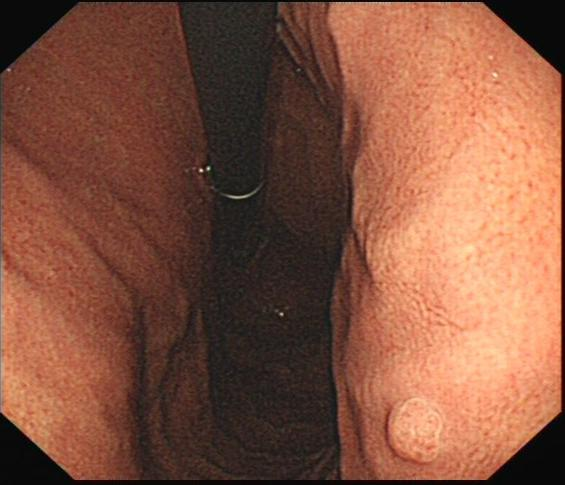Polyp: (378, 398, 459, 470)
